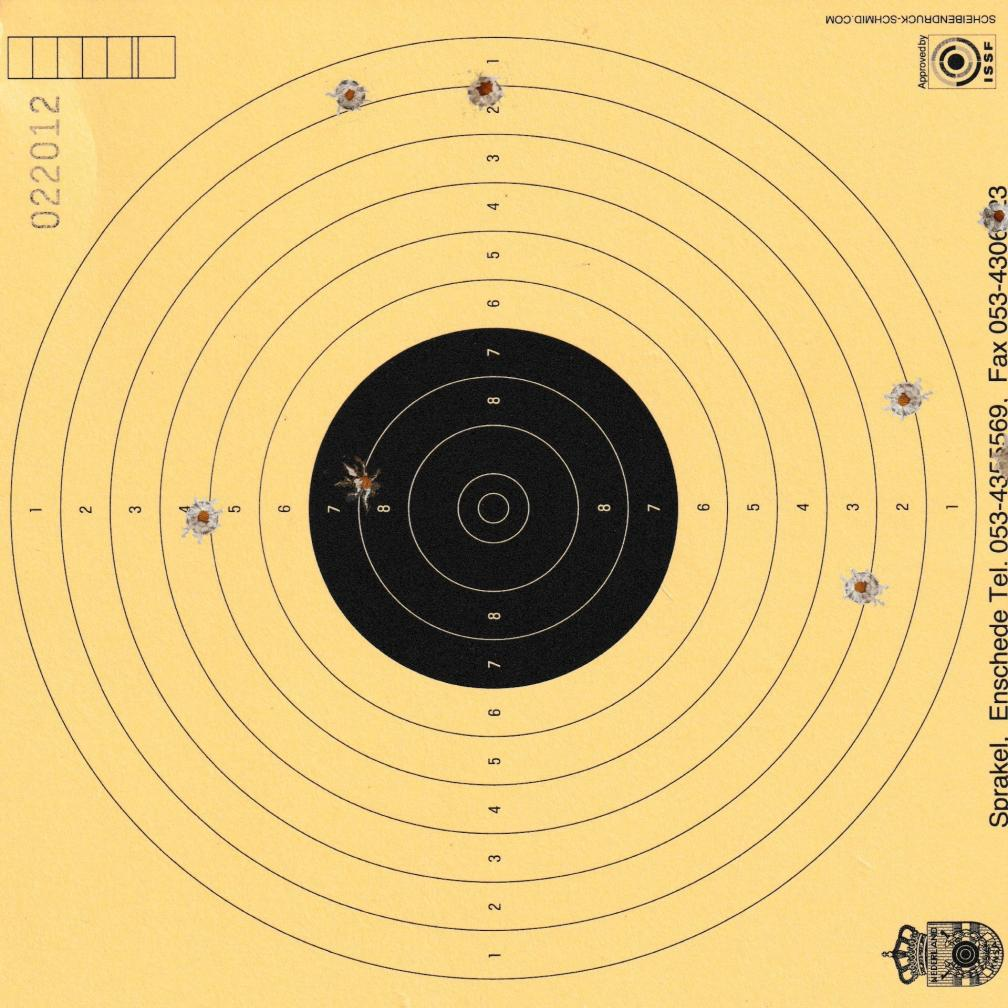0: (975, 192, 1008, 240), (997, 428, 1008, 490)
2: (878, 373, 933, 423), (326, 71, 374, 118), (461, 68, 509, 115)
5: (179, 494, 227, 543)
8: (334, 449, 390, 511)
Target: (6, 31, 982, 983)
black_contour: (306, 327, 679, 690)
